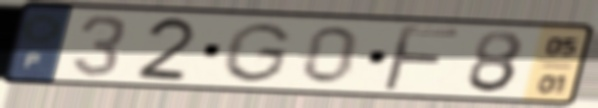0: (296, 24, 365, 87)
2: (133, 14, 203, 83)
3: (69, 12, 132, 81)
8: (462, 28, 527, 96)
F: (377, 22, 463, 94)
G: (217, 20, 296, 85)
